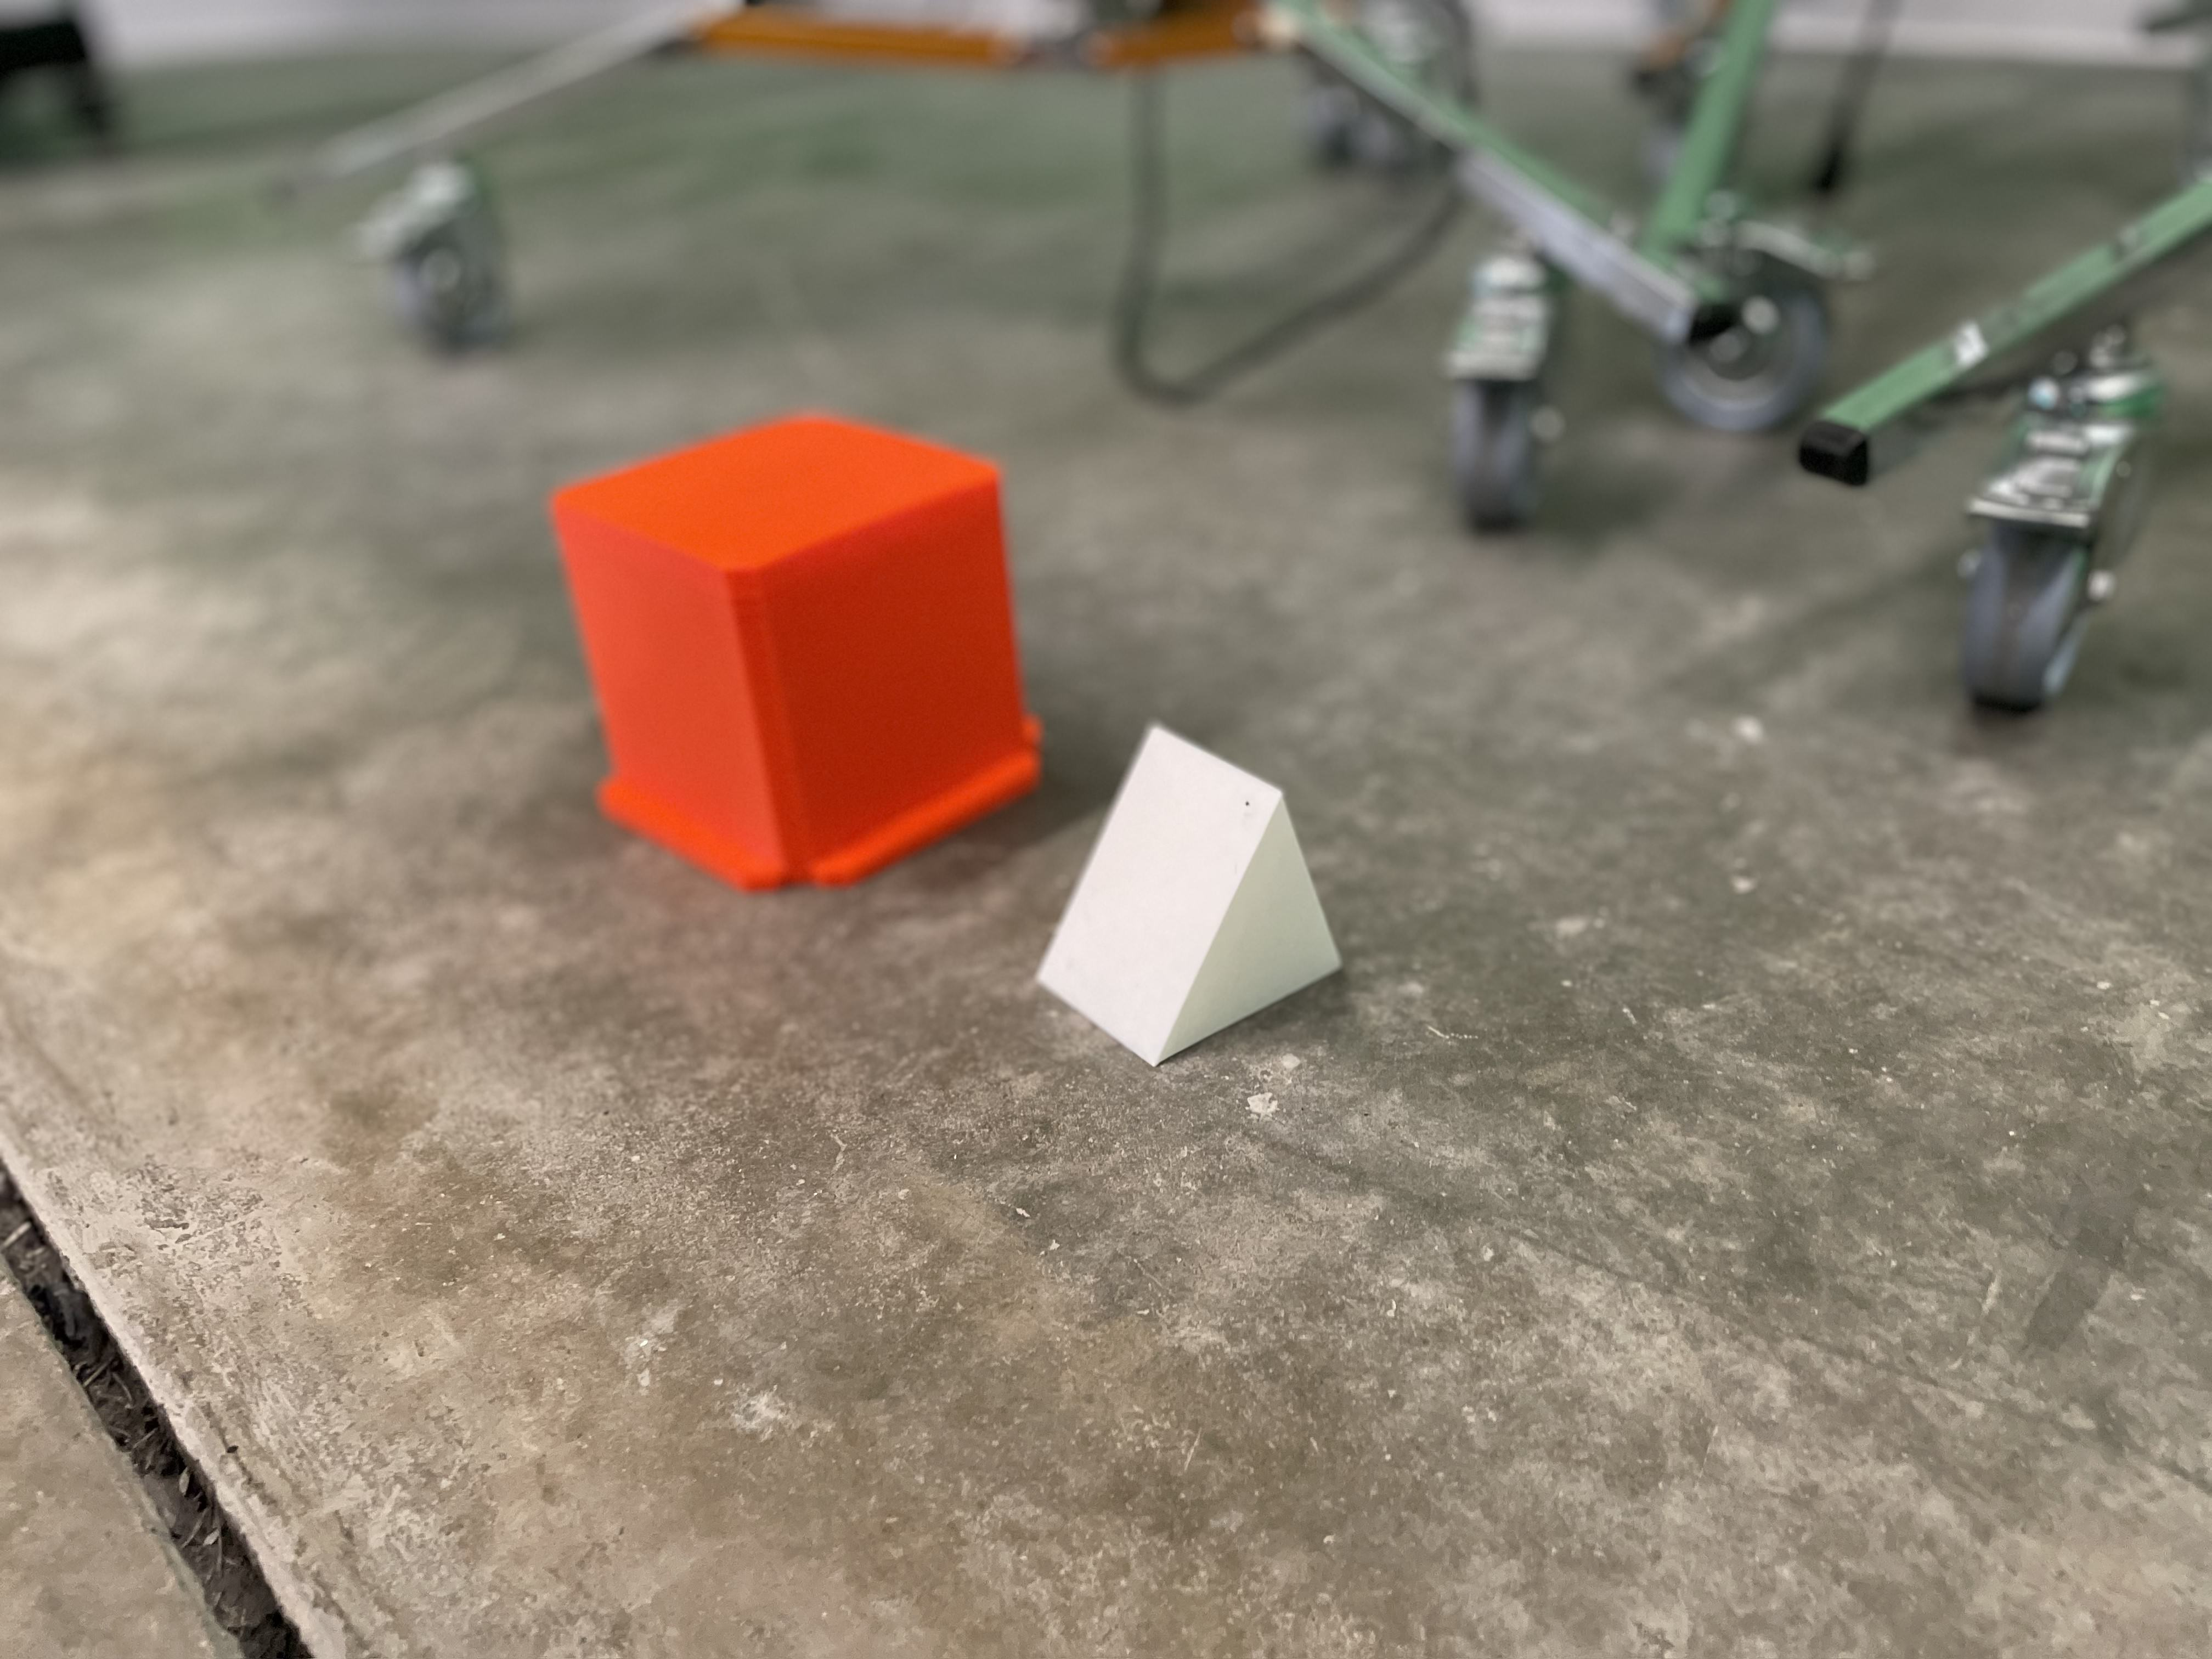payload1: (516, 397, 1057, 915)
payload2: (1017, 709, 1360, 1072)
